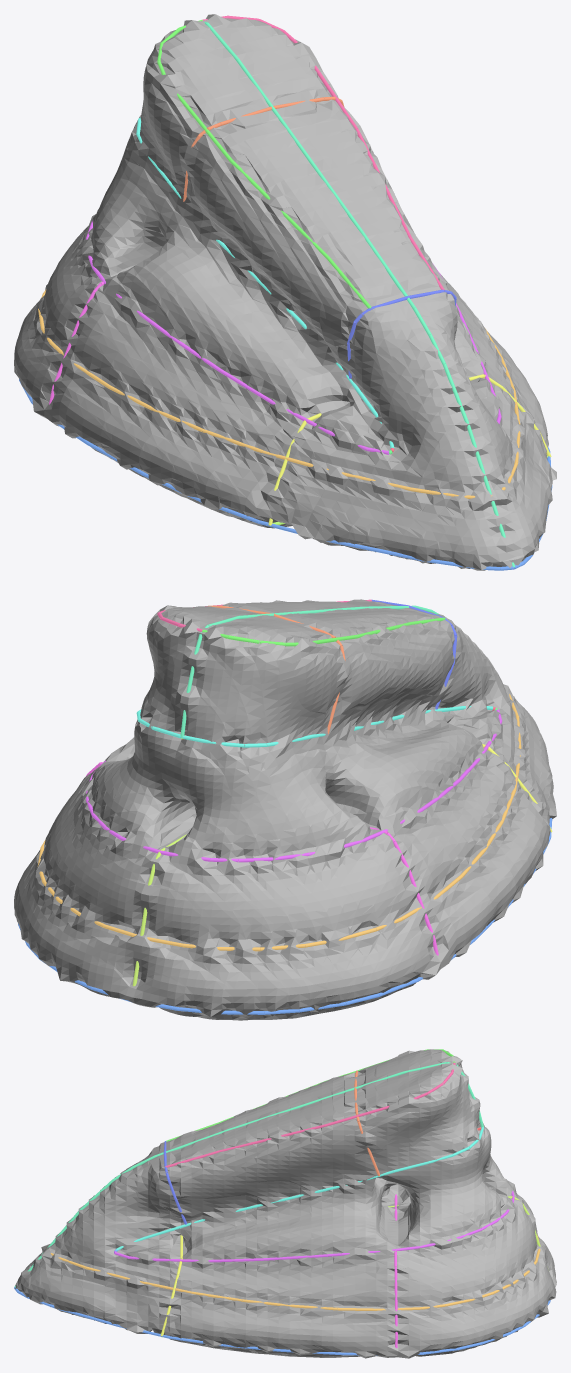
The model's file is t2f_iron.gltf.
The picture shows the model from 3 angles, top to bottom: view 1: azimuth 30°, elevation 25°; view 2: azimuth 150°, elevation 25°; view 3: azimuth 270°, elevation 25°; orthographic projection. The views are drawn at different scales.
Size of the model in its own units: 0.4861 by 0.4131 by 0.8077.
